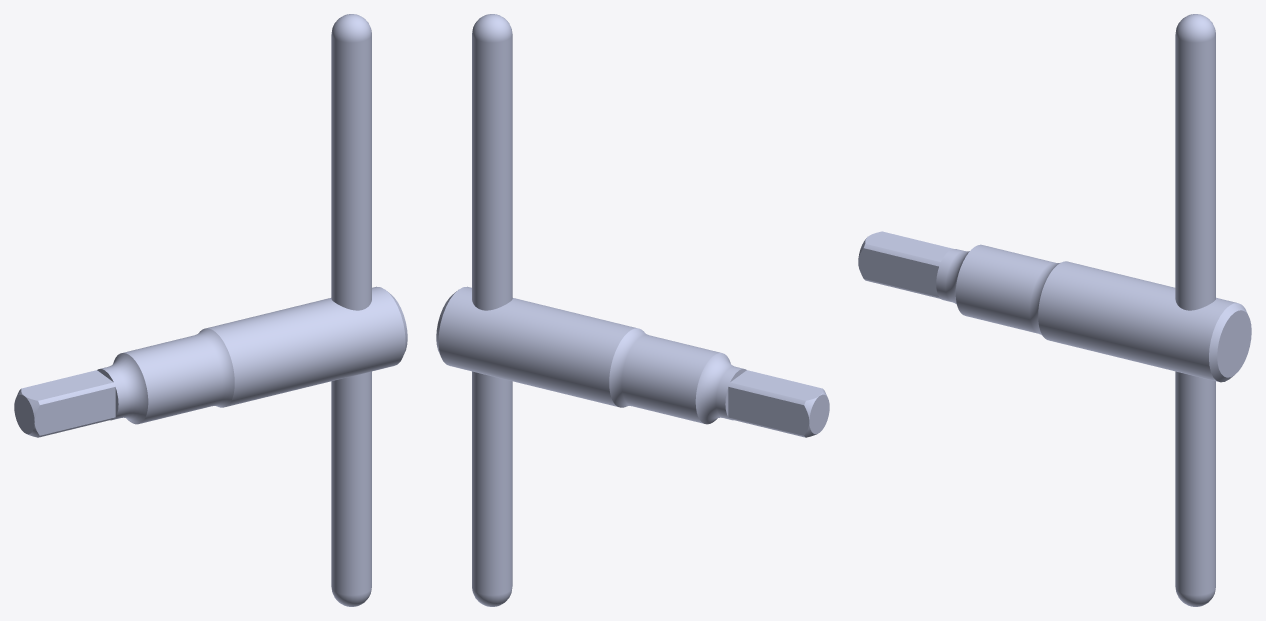
File: chuck key.fbx
3 views of the same model, side by side, from view 1: azimuth 30°, elevation 25°; view 2: azimuth 150°, elevation 25°; view 3: azimuth 330°, elevation 25° (orthographic).
Parts seen in each view (by area): view 1: ayna anahtarı, kol; view 2: ayna anahtarı, kol; view 3: ayna anahtarı, kol.
Part boxes in pixels (x1,y1,x2,y2): ayna anahtarı: [14, 286, 407, 437]; kol: [331, 14, 371, 606]; ayna anahtarı: [436, 286, 829, 437]; kol: [472, 14, 512, 606]; ayna anahtarı: [858, 231, 1251, 382]; kol: [1175, 14, 1215, 606].
Size of the model in its own units: 10.4 by 16 by 2.
